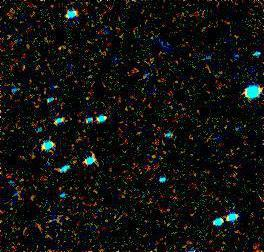star: (61, 150, 91, 180)
